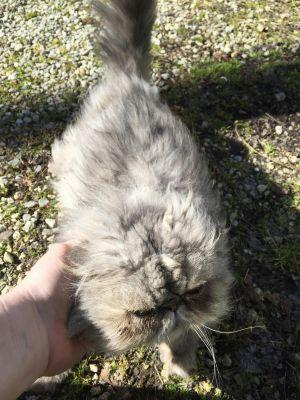persian: (91, 235, 236, 359)
